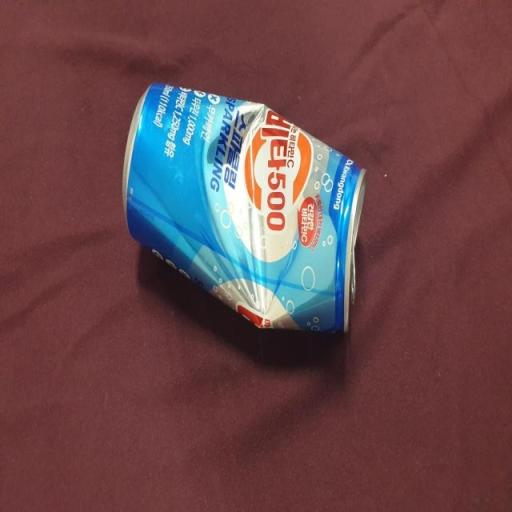metal: (110, 65, 378, 380)
